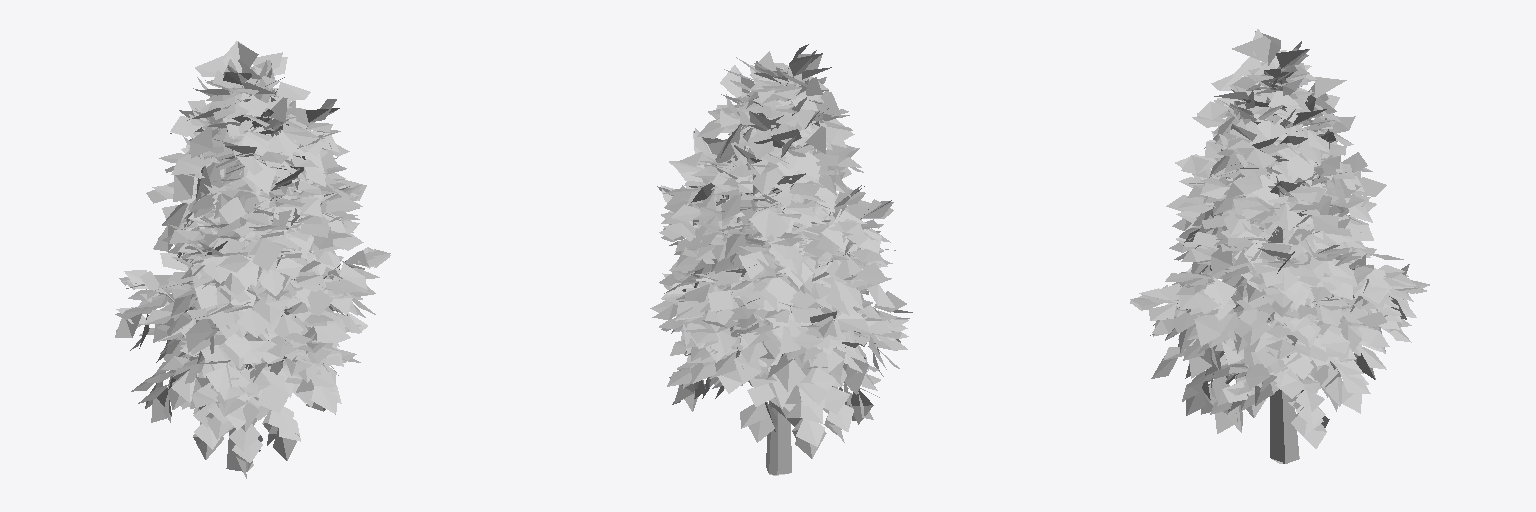
Rendered from Tree2.obj.
3 renders of one model, left to right at view 1: azimuth 30°, elevation 25°; view 2: azimuth 150°, elevation 25°; view 3: azimuth 270°, elevation 25°, orthographic.
Parts seen in each view (by area): view 1: Tree2; view 2: Tree2; view 3: Tree2.
Boxes of the visible parts, <box> form: Tree2: <box>115,41,390,478</box>; Tree2: <box>650,44,912,475</box>; Tree2: <box>1130,29,1429,463</box>.
Size of the model in its own units: 4.24 by 7.59 by 4.99.